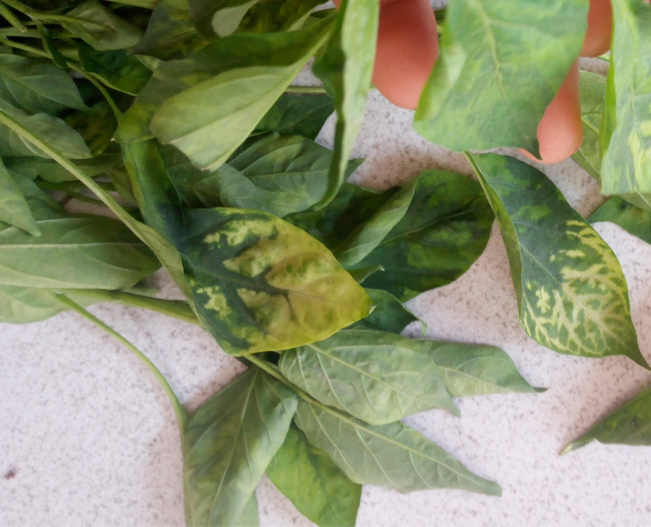iouv: (466, 149, 651, 367), (148, 206, 387, 358)
